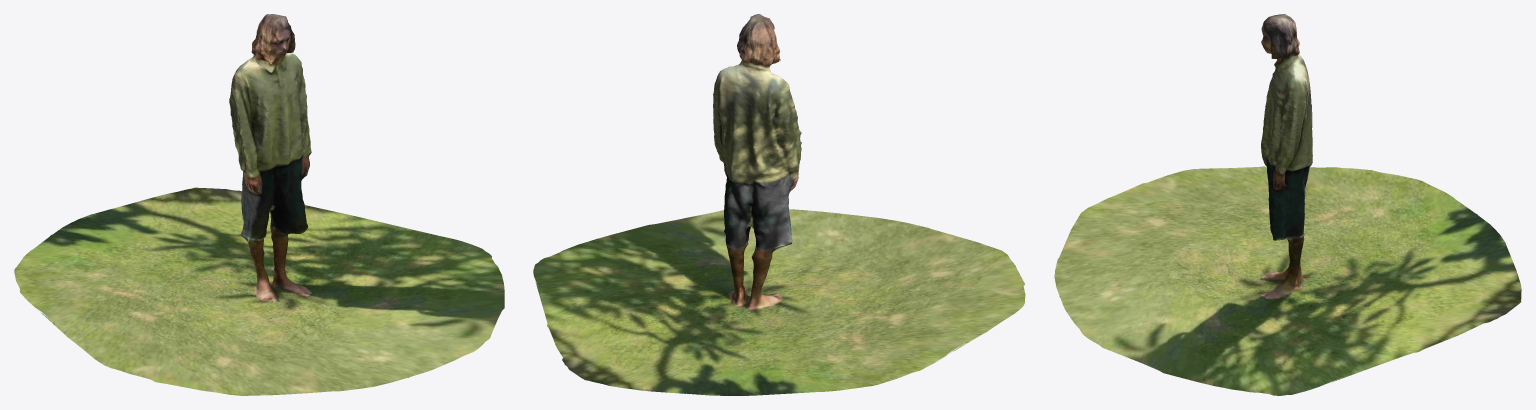
File: self2.glb
3 renders of one model, left to right at view 1: azimuth 30°, elevation 25°; view 2: azimuth 150°, elevation 25°; view 3: azimuth 270°, elevation 25°, orthographic. The views are drawn at different scales.
Visible parts, largest first — view 1: mesh; view 2: mesh; view 3: mesh.
Boxes of the visible parts, x1,y1,x2,y2 form: mesh: (14,14,504,395); mesh: (533,14,1025,395); mesh: (1054,14,1521,395).
Bounding box in the file's own units: 3.02 × 1.95 × 2.96.
1 material, 1 textured.
